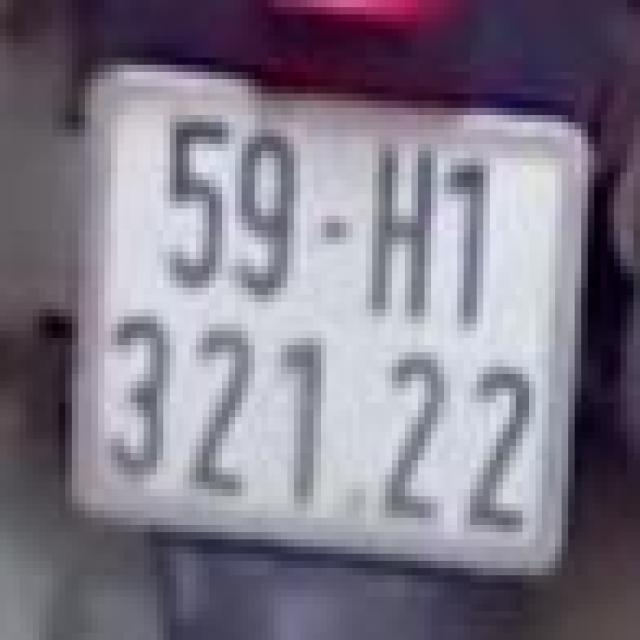1: (447, 158, 493, 338), (281, 330, 326, 510)
2: (180, 320, 264, 514), (369, 352, 447, 540), (467, 366, 539, 554)
3: (101, 316, 173, 482)
5: (163, 111, 229, 292)
9: (238, 129, 304, 302)
H: (359, 140, 438, 327)
